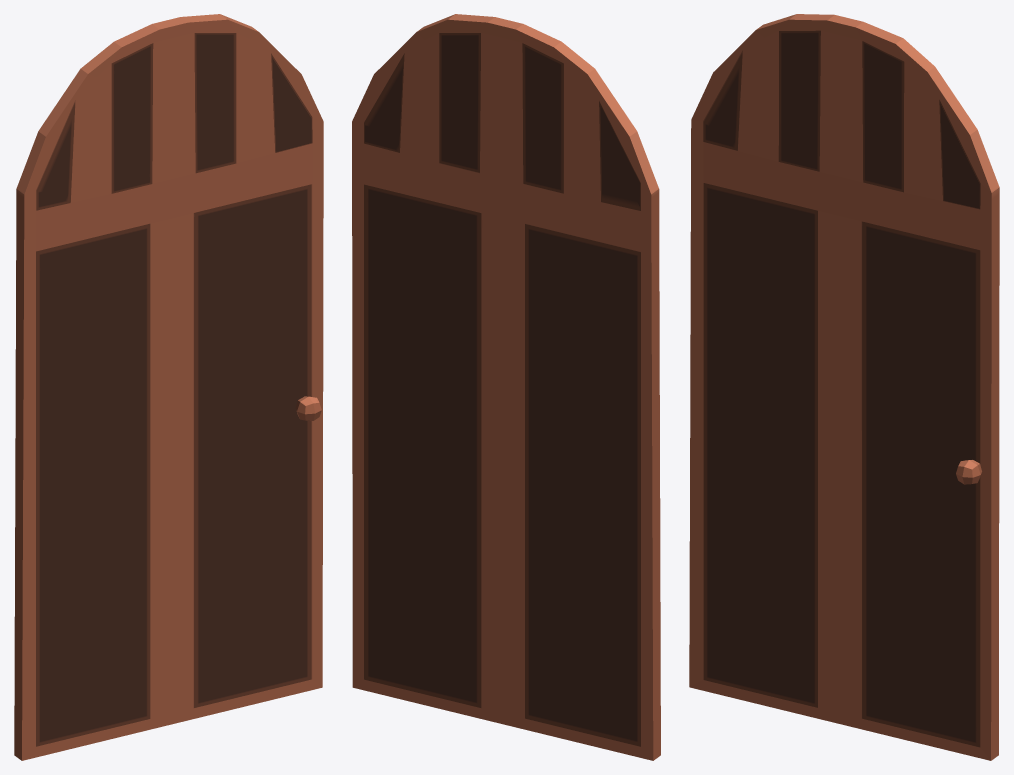
The model's file is Porta_de_saida.fbx.
3 renders of one model, left to right at view 1: azimuth 30°, elevation 25°; view 2: azimuth 150°, elevation 25°; view 3: azimuth 330°, elevation 25°, orthographic.
Visible parts, largest first — view 1: Porta de saida; view 2: Porta de saida; view 3: Porta de saida.
Boxes of the visible parts, x1=… form: Porta de saida: x1=14, y1=14, x2=323, y2=760; Porta de saida: x1=352, y1=14, x2=660, y2=760; Porta de saida: x1=689, y1=14, x2=999, y2=760.
Size of the model in its own units: 211 by 468 by 22.25.
Materials: 1 (1 with a texture image).
